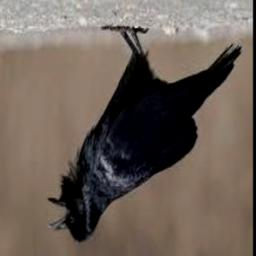Crow: (47, 26, 241, 244)
